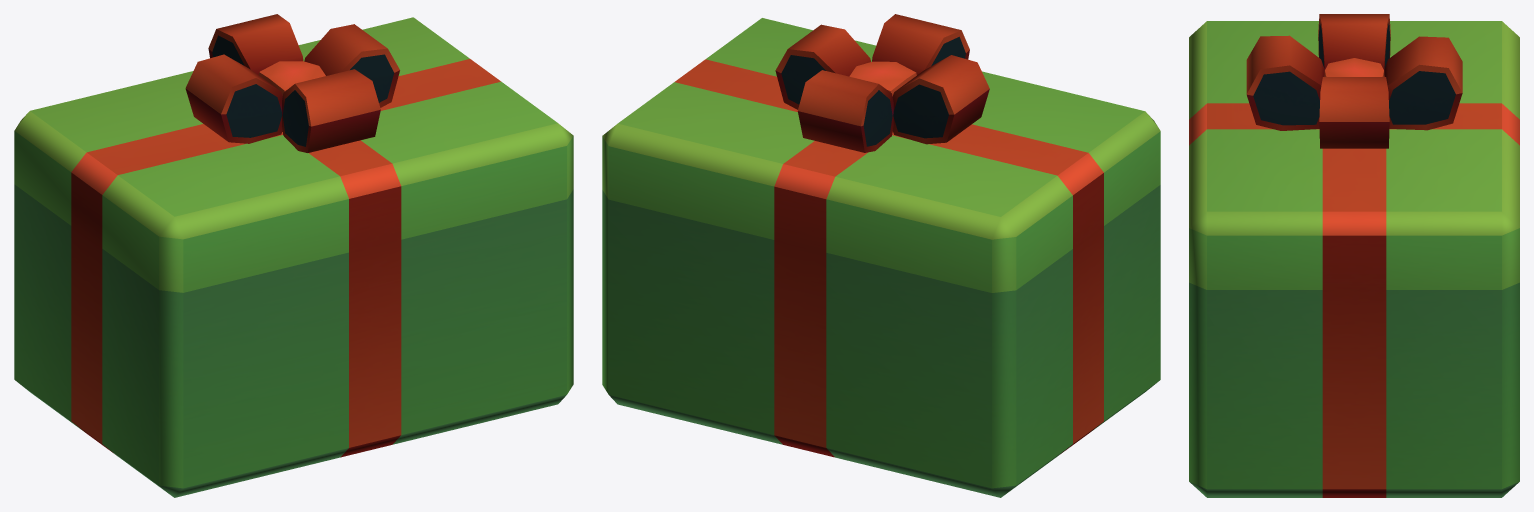
Rendered from presi_square_1_green.fbx.
The picture shows the model from 3 angles, left to right: view 1: azimuth 30°, elevation 25°; view 2: azimuth 150°, elevation 25°; view 3: azimuth 270°, elevation 25°; orthographic projection.
Visible parts, largest first — view 1: presi_square_1_green; view 2: presi_square_1_green; view 3: presi_square_1_green.
Part boxes in pixels (x1=…): presi_square_1_green: x1=14, y1=14, x2=573, y2=497; presi_square_1_green: x1=602, y1=14, x2=1160, y2=497; presi_square_1_green: x1=1189, y1=14, x2=1519, y2=497.
Size of the model in its own units: 156 by 124 by 106.
Materials: 1 (1 with a texture image).
